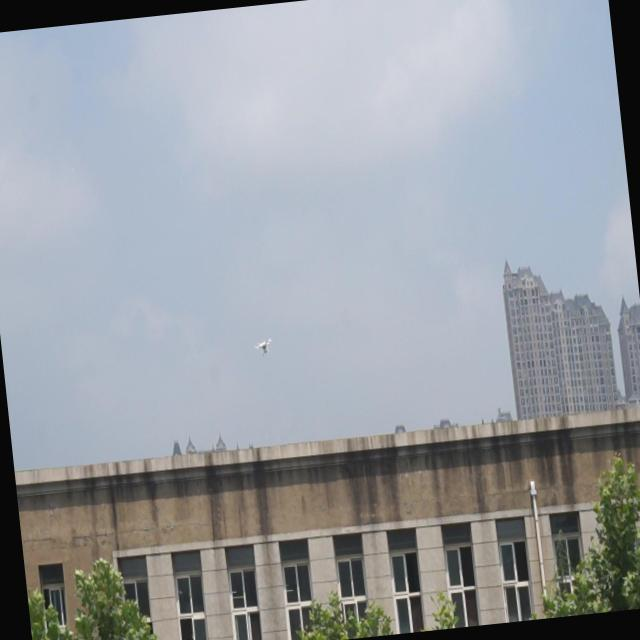drone: (252, 333, 274, 359)
